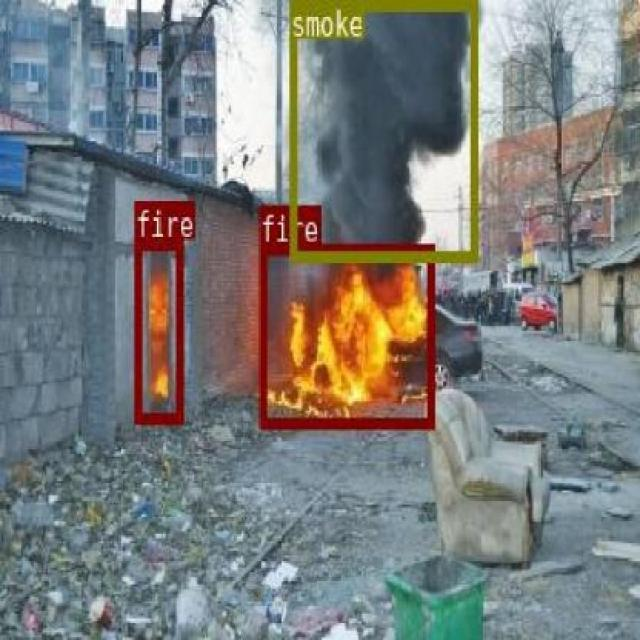Fire: (259, 244, 433, 426), (134, 238, 182, 422)
Smoke: (288, 0, 476, 262)
